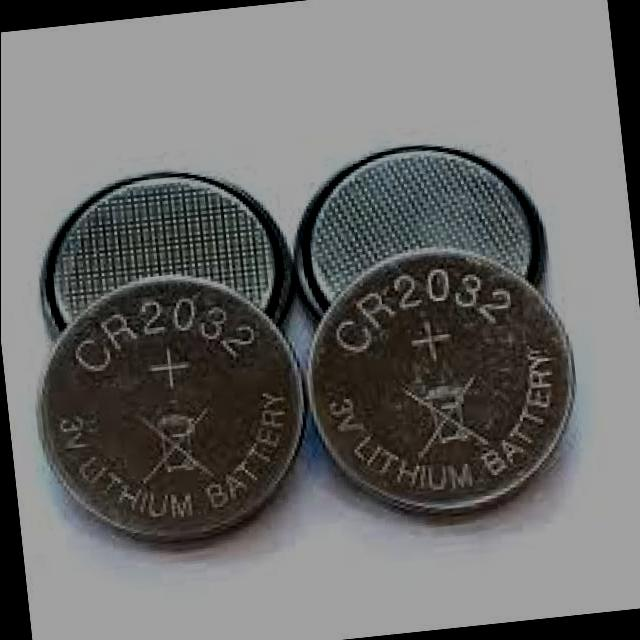COIN: (20, 259, 318, 556), (292, 230, 590, 527), (273, 109, 577, 363), (28, 142, 302, 394)
